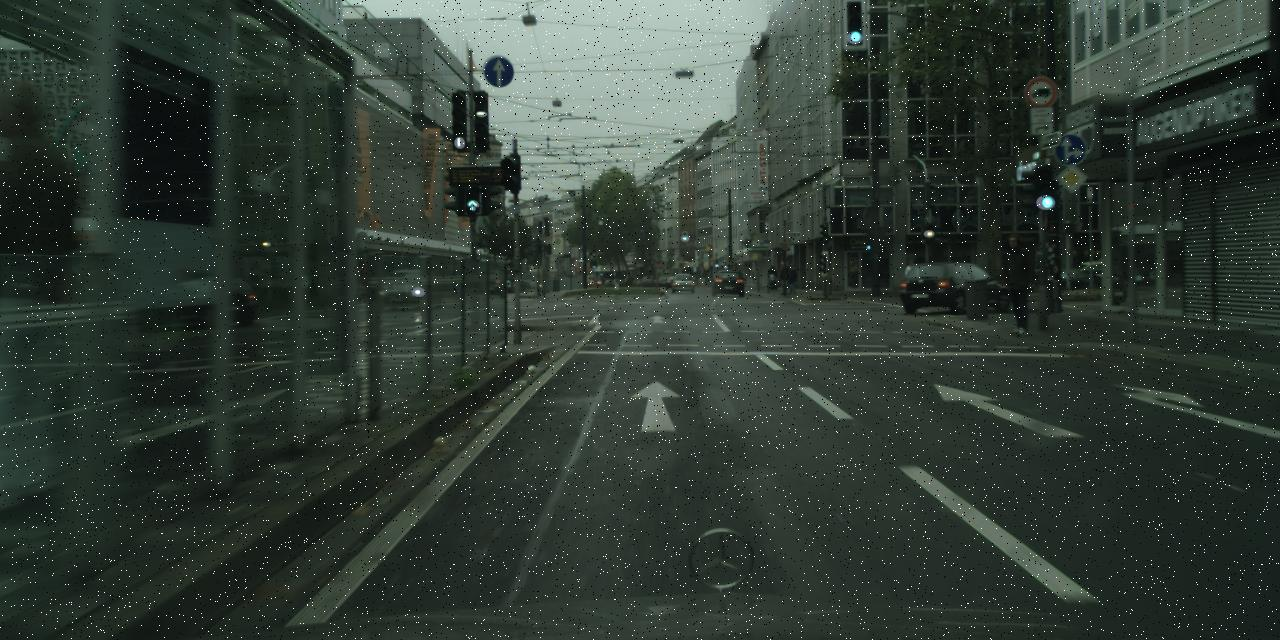ped: (995, 235, 1036, 336), (780, 262, 800, 296), (904, 260, 918, 296), (767, 263, 777, 290)
